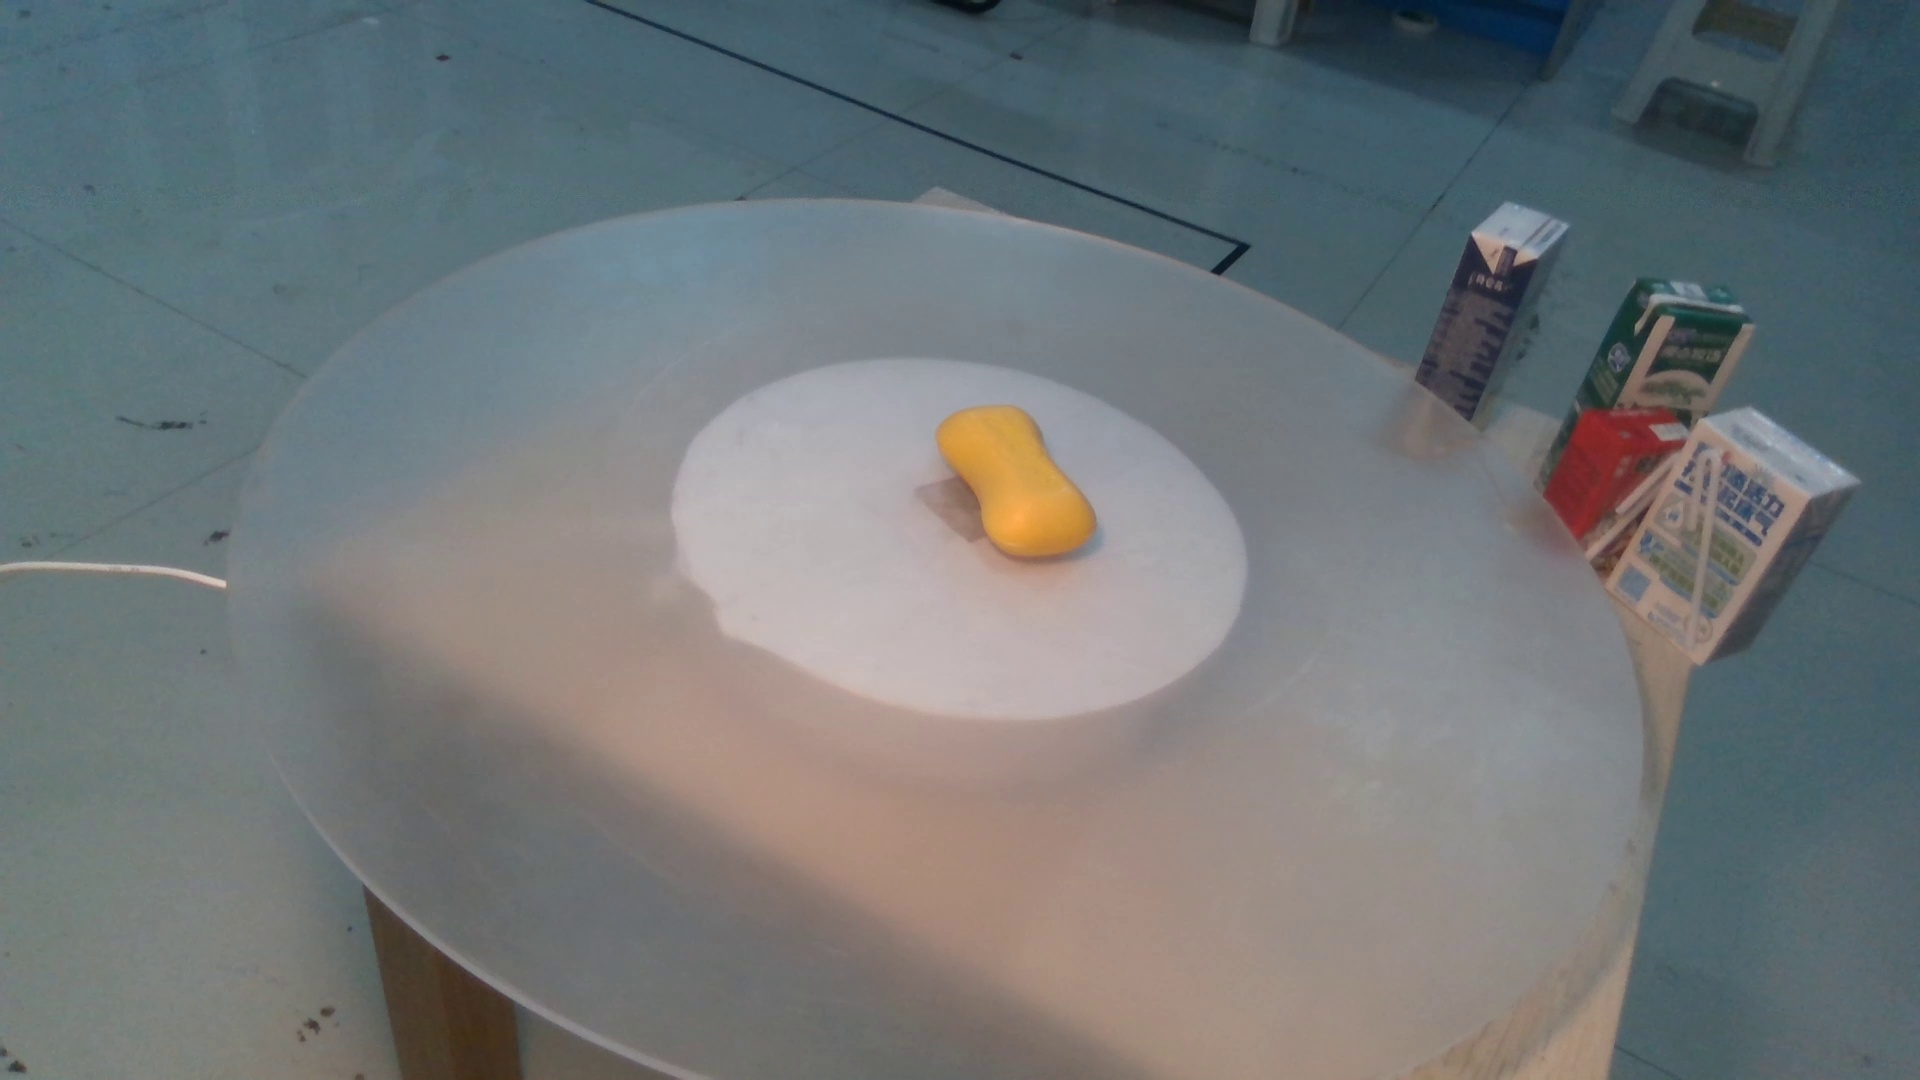CA003_1: (909, 394, 1116, 576)
